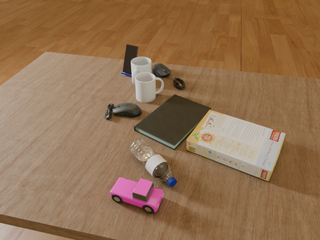book: (134, 95, 211, 150)
bottle: (130, 138, 177, 187)
box: (186, 110, 285, 181)
cup: (135, 72, 164, 103), (131, 57, 152, 84)
mouse: (105, 103, 142, 119), (152, 63, 171, 77)
phone: (123, 44, 138, 74)
toy_car: (110, 177, 164, 214)
